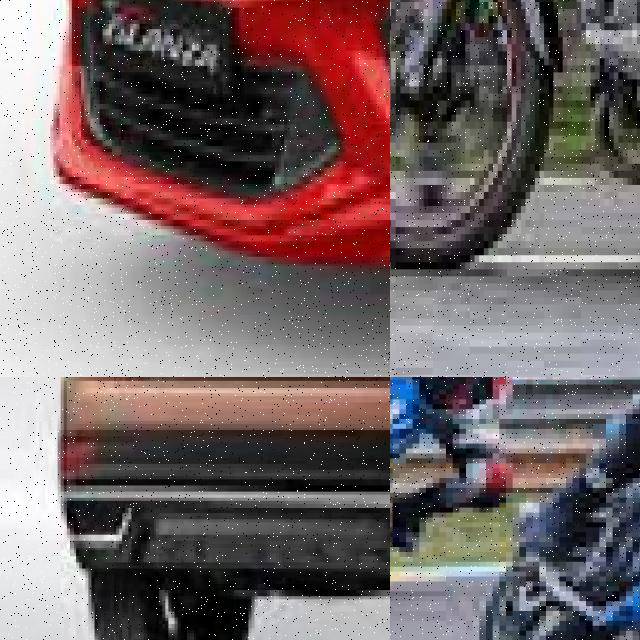bike: (390, 0, 640, 290), (479, 377, 640, 640), (390, 377, 445, 630)
car: (16, 0, 390, 377), (30, 377, 390, 640)
